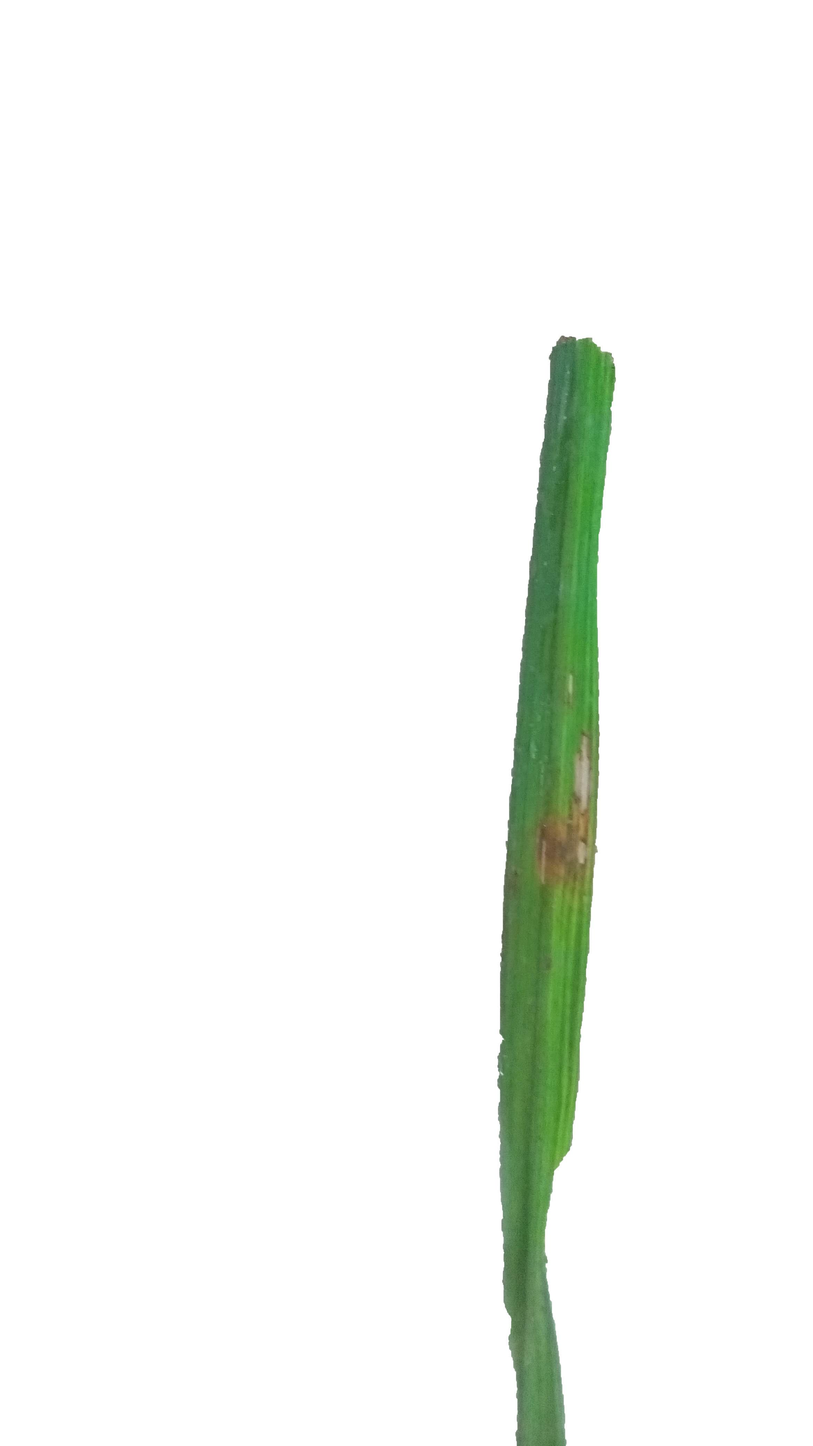Rice blast: (528, 813, 594, 890)
